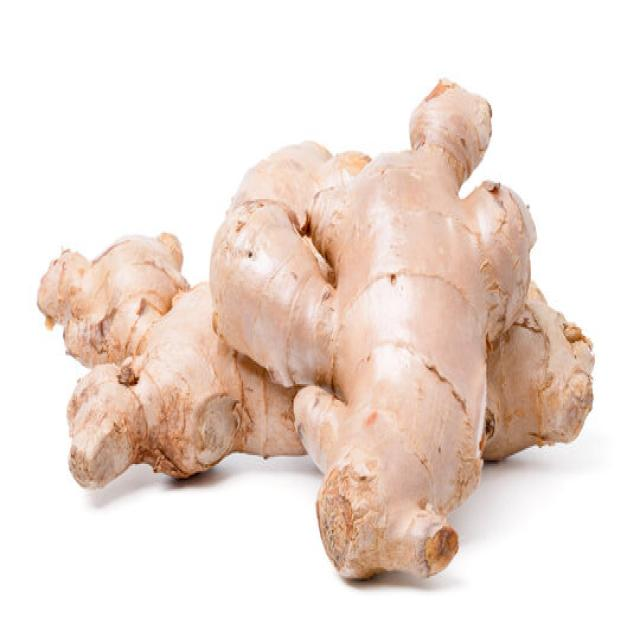Ginger: (290, 75, 537, 581), (65, 279, 308, 489), (36, 229, 190, 370), (480, 279, 595, 462)
